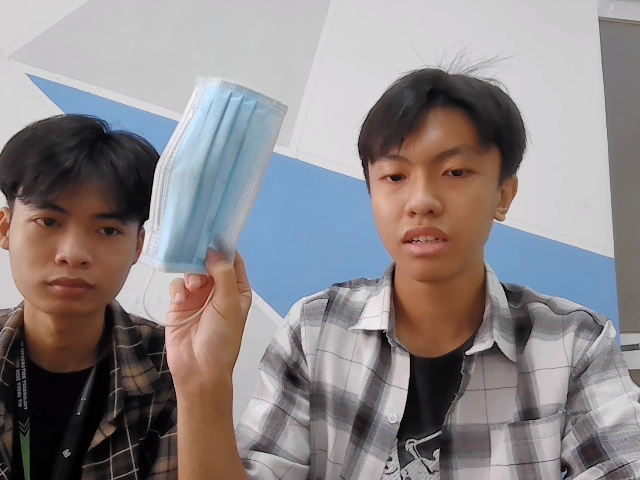human: (350, 62, 537, 275), (4, 112, 153, 318)
mask: (142, 71, 303, 290)
